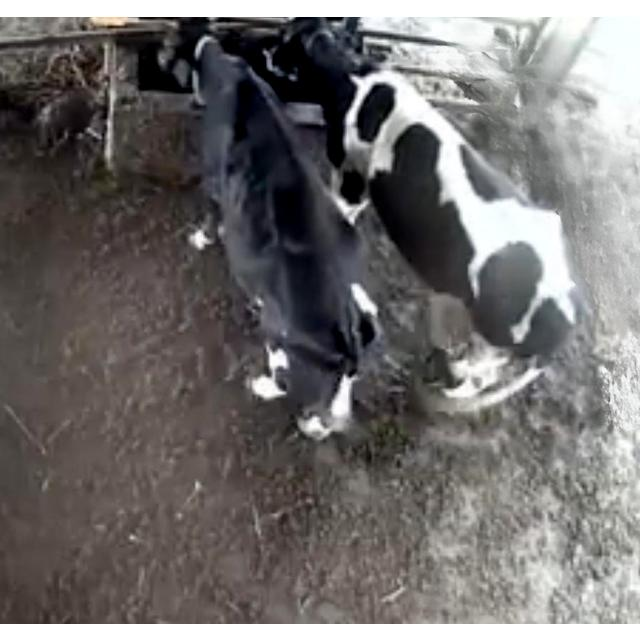drink: (262, 17, 390, 125), (154, 16, 260, 120)
